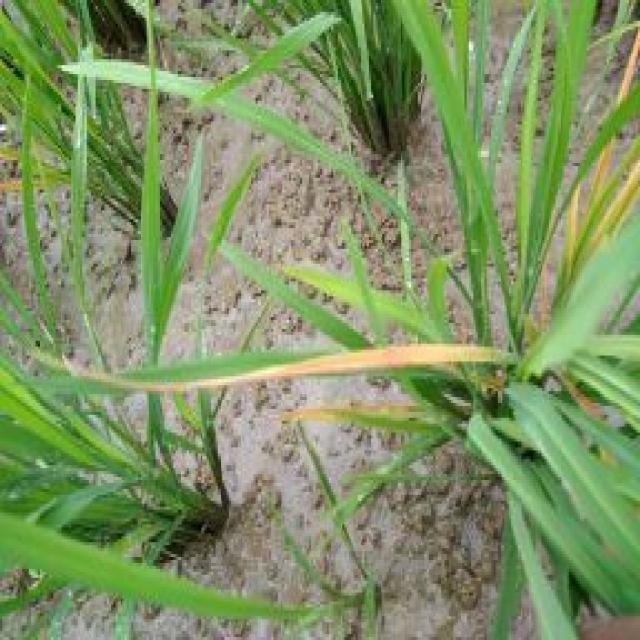Rice Tungro: (106, 330, 491, 388), (271, 400, 333, 435)
